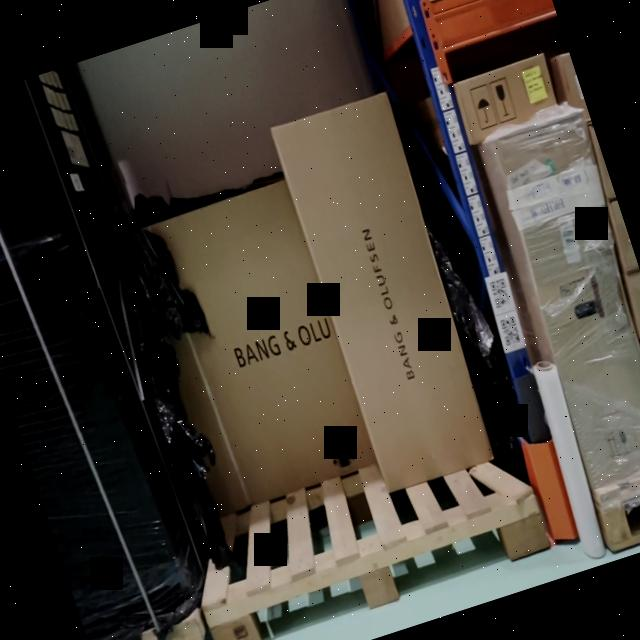box: (272, 95, 494, 490), (121, 179, 378, 517), (495, 112, 640, 489), (455, 52, 560, 145), (610, 201, 639, 272), (589, 124, 616, 198), (627, 273, 640, 332)
